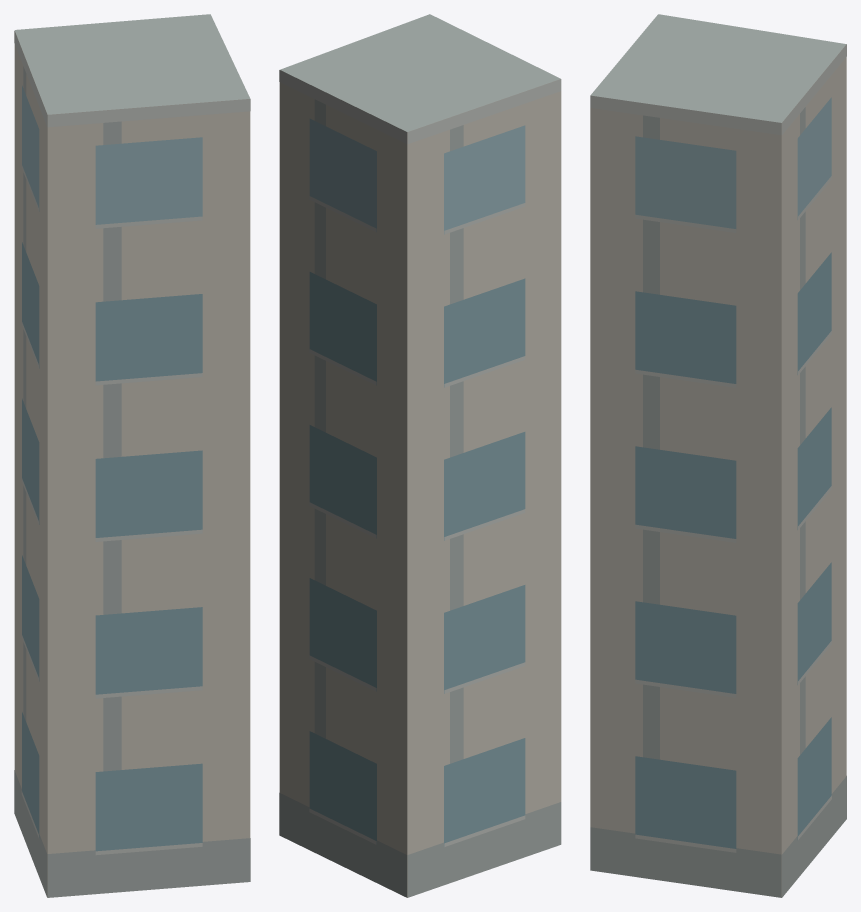
Rendered from survey-upis-32820218.glb.
3 renders of one model, left to right at view 1: azimuth 30°, elevation 25°; view 2: azimuth 150°, elevation 25°; view 3: azimuth 270°, elevation 25°, orthographic. The views are drawn at different scales.
Visible parts, largest first — view 1: survey-upis-32820218.tmp; view 2: survey-upis-32820218.tmp; view 3: survey-upis-32820218.tmp.
Boxes of the visible parts, x1,y1,x2,y2 form: survey-upis-32820218.tmp: [14, 14, 250, 897]; survey-upis-32820218.tmp: [279, 14, 561, 897]; survey-upis-32820218.tmp: [590, 14, 846, 897].
Bounding box in the file's own units: 4.61 × 15.25 × 4.58.
